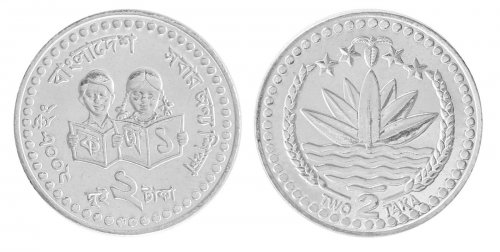5 taka coin: (11, 7, 243, 237), (255, 9, 484, 234)
